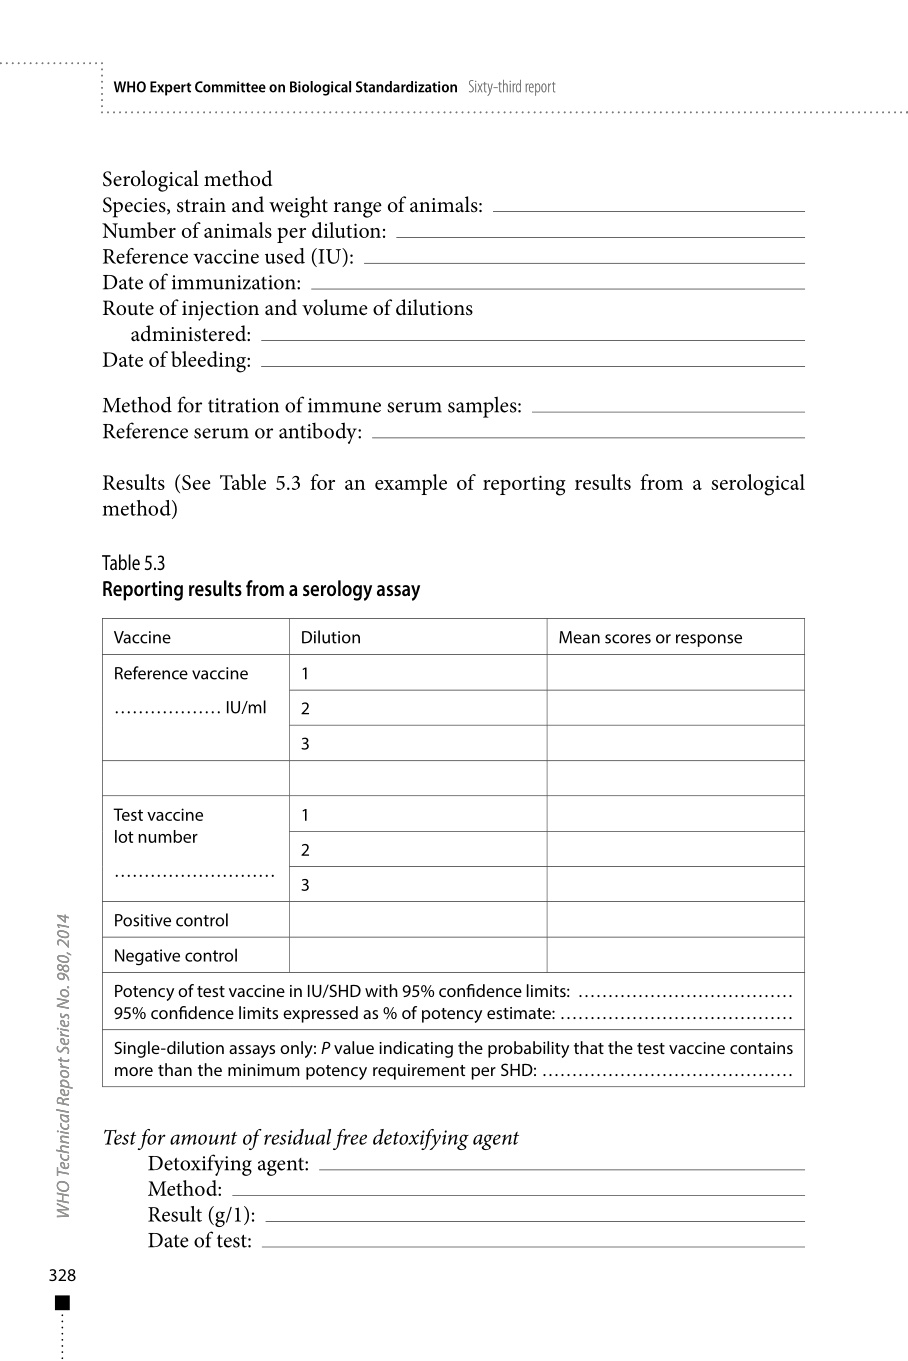merged_cells: (102, 618, 806, 1088)
